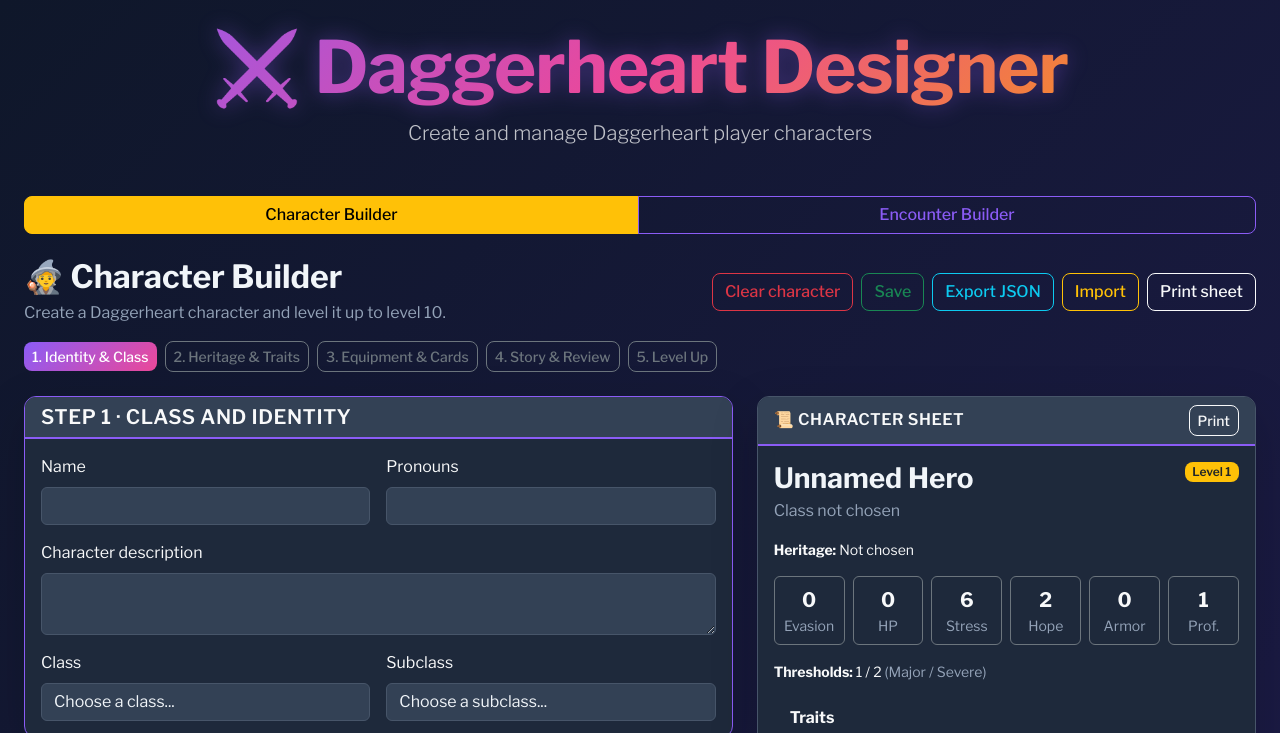
Daggerheart Designer › saves a character draft from the builder
The image size is (1280, 733).
Type "Cypress Hero" into the field labelled "Name" at (206, 506), box [41,487,370,525]
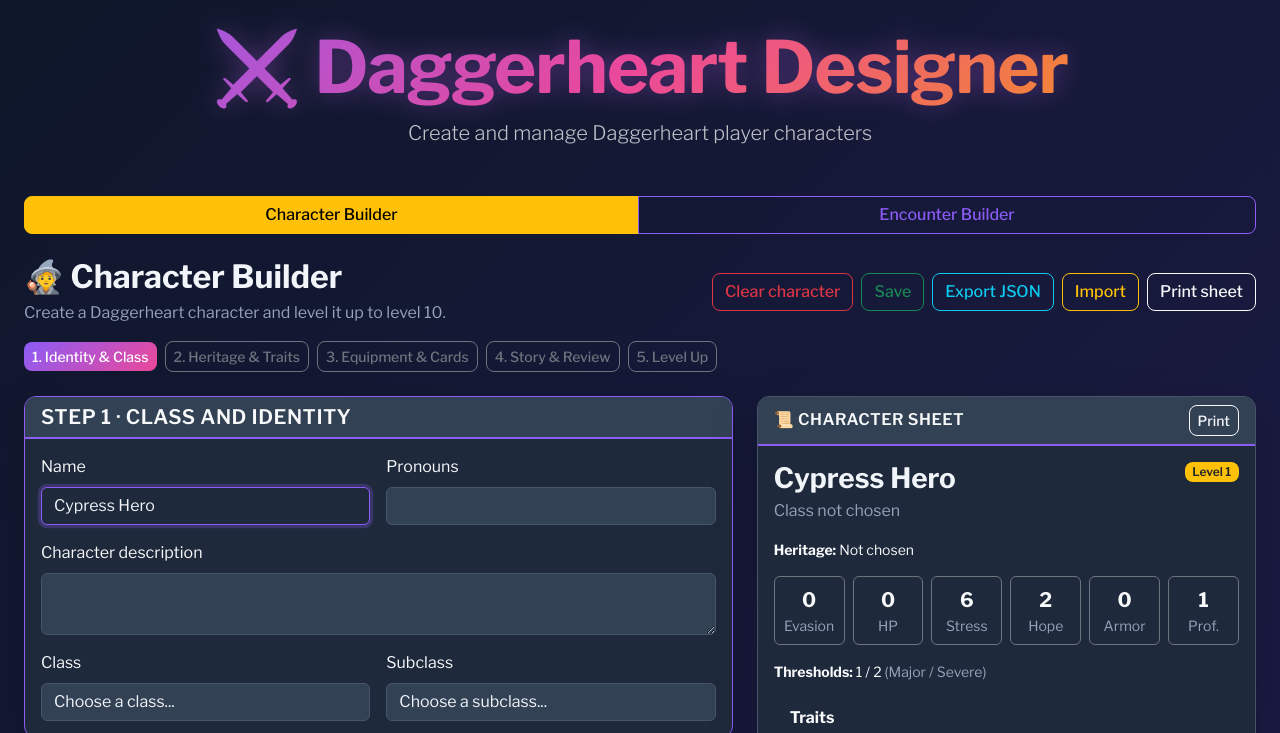
Select "Bard" in the dropdown labelled "Class" at (206, 702), box [41,683,370,721]
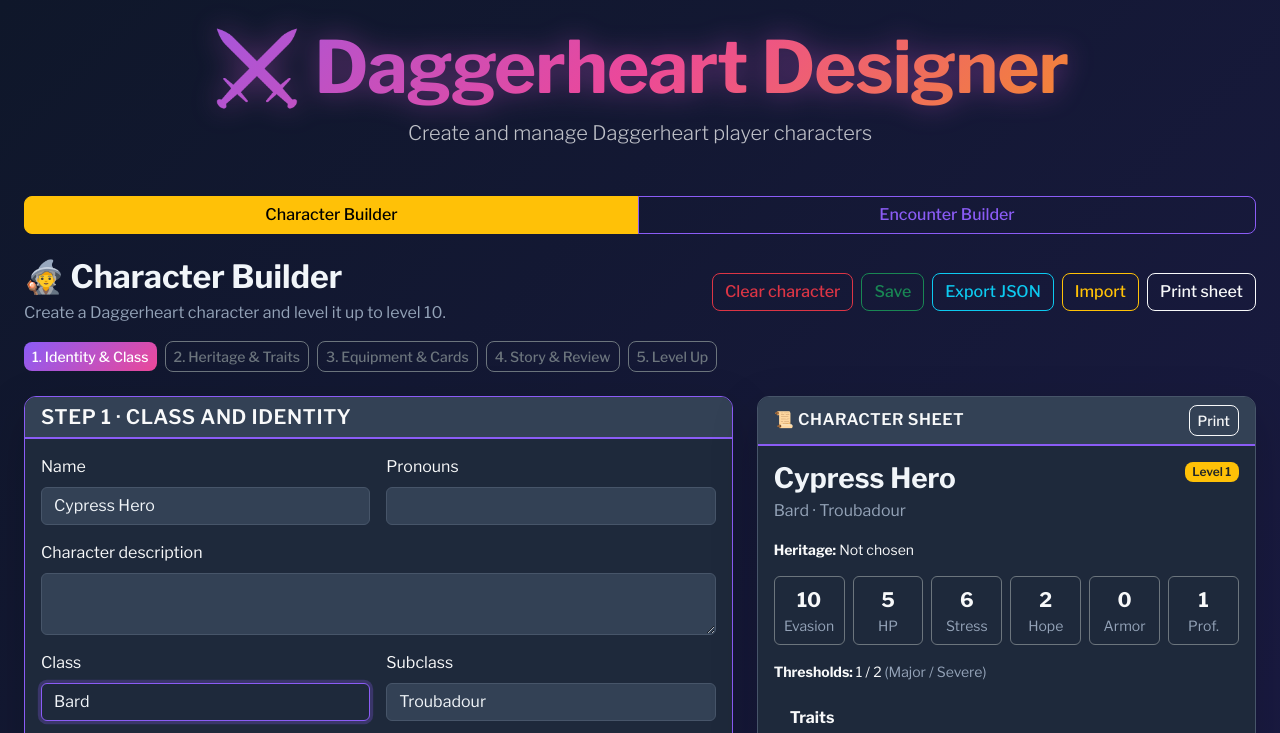
Select "Troubadour" in the dropdown labelled "Subclass" at (551, 702), box [386,683,715,721]
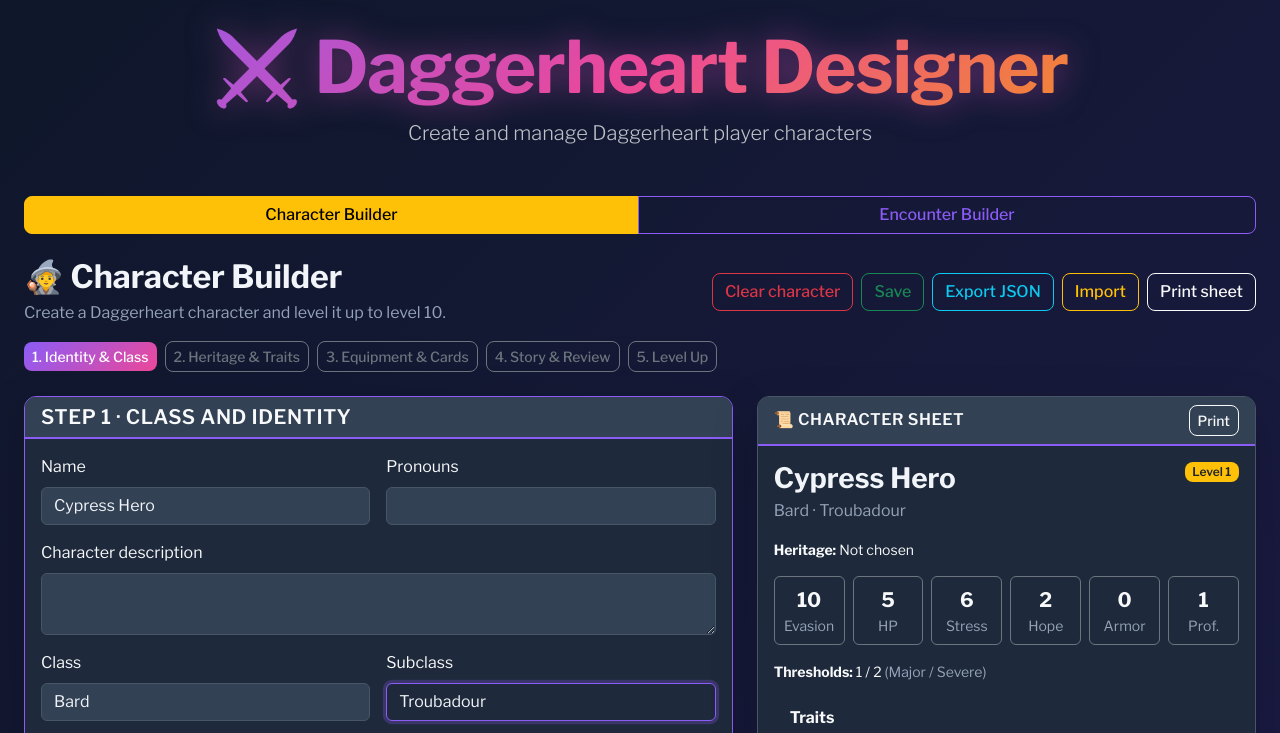
Click the button "Save" at (894, 292), box [862,273,925,311]
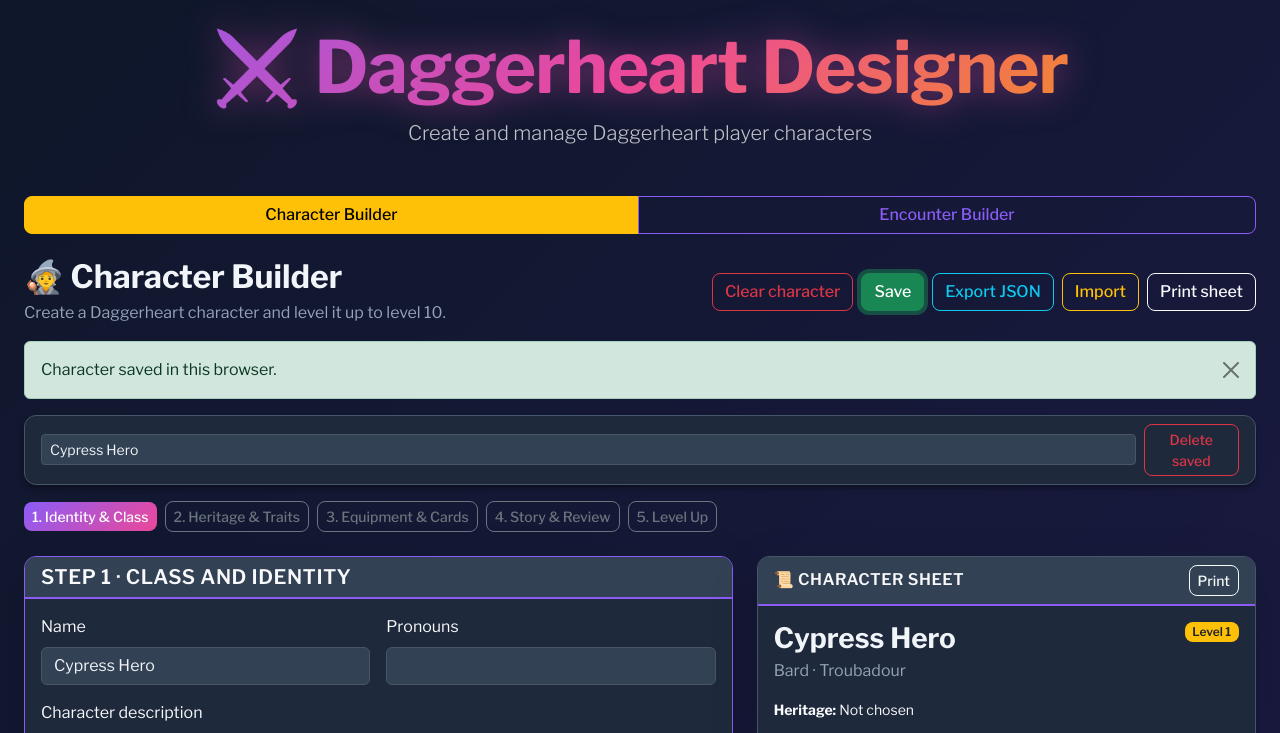
Now the text "Character saved in this browser." is shown, box [24,341,1256,399]
